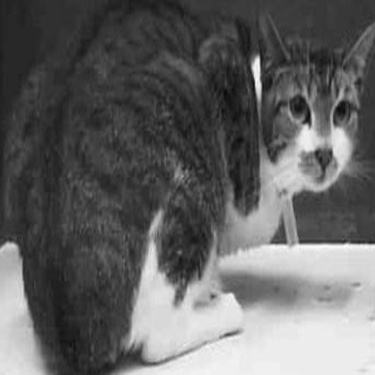cat: (9, 10, 365, 365)
